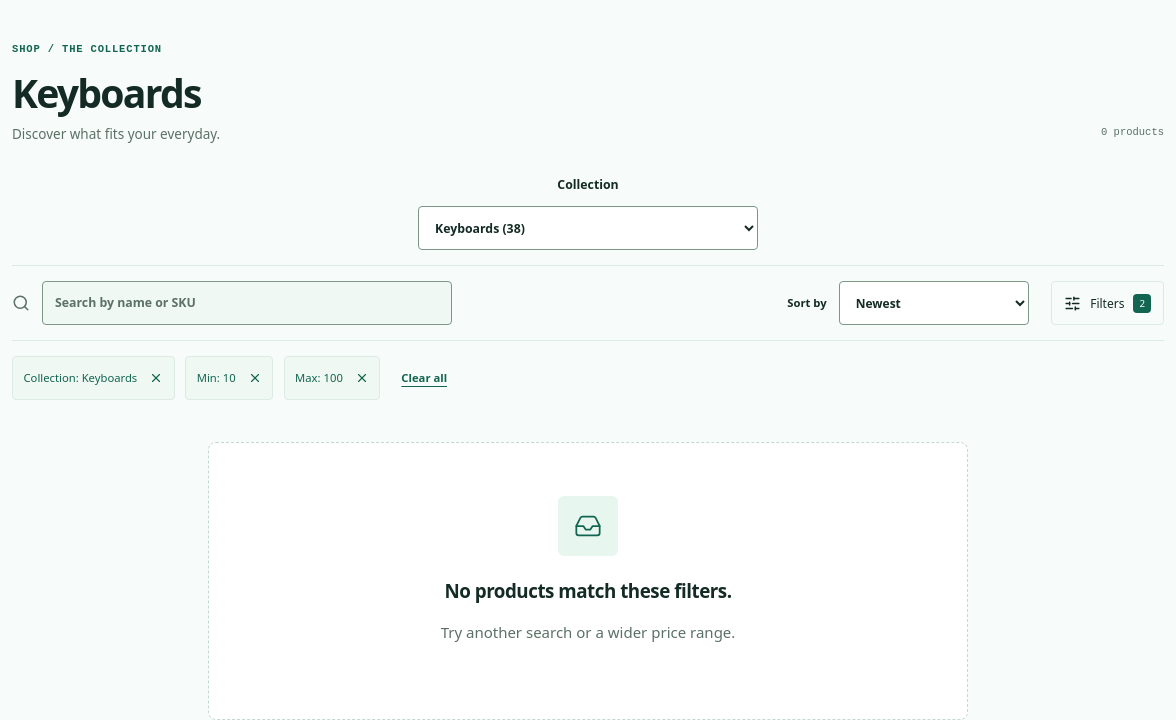
debounces search into the URL and queries the first server page
Step 1. Type "keyboard" into the search field named "Search products" → (247, 303), box x1=42 y1=281 x2=452 y2=325
(page scrolled)
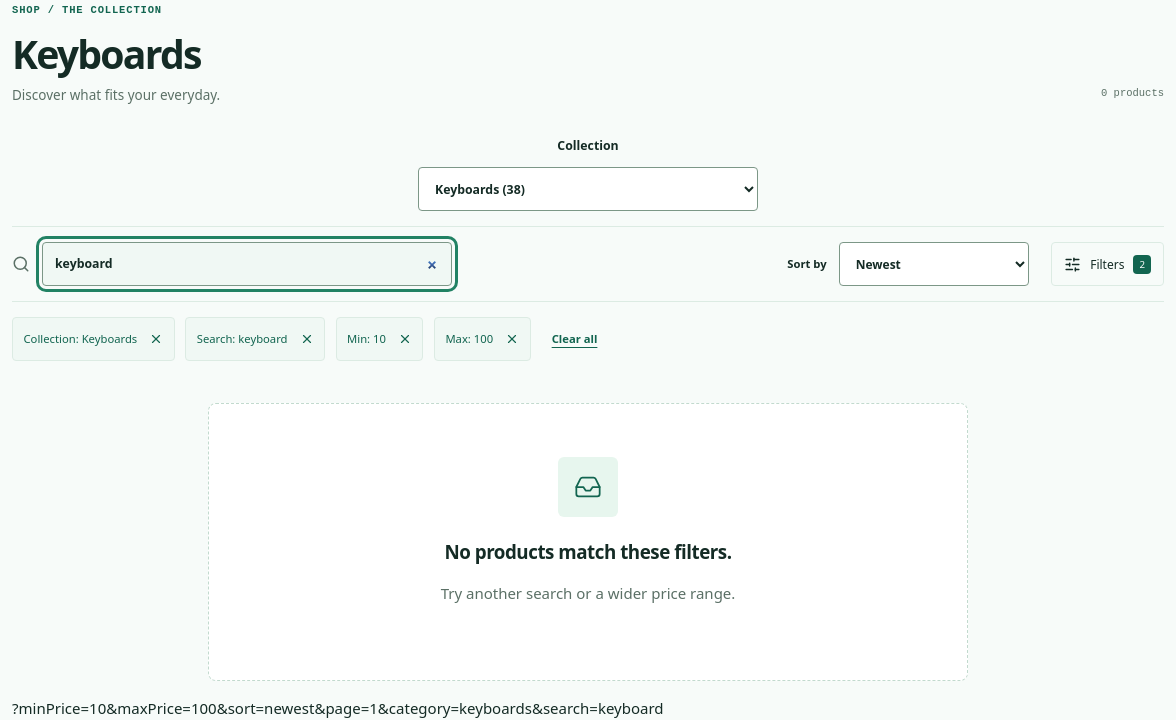
Expected: the text with test id "location" shows "search=keyboard", x1=12 y1=698 x2=664 y2=718
Expected: the text with test id "location" shows "page=1", x1=12 y1=698 x2=664 y2=718
